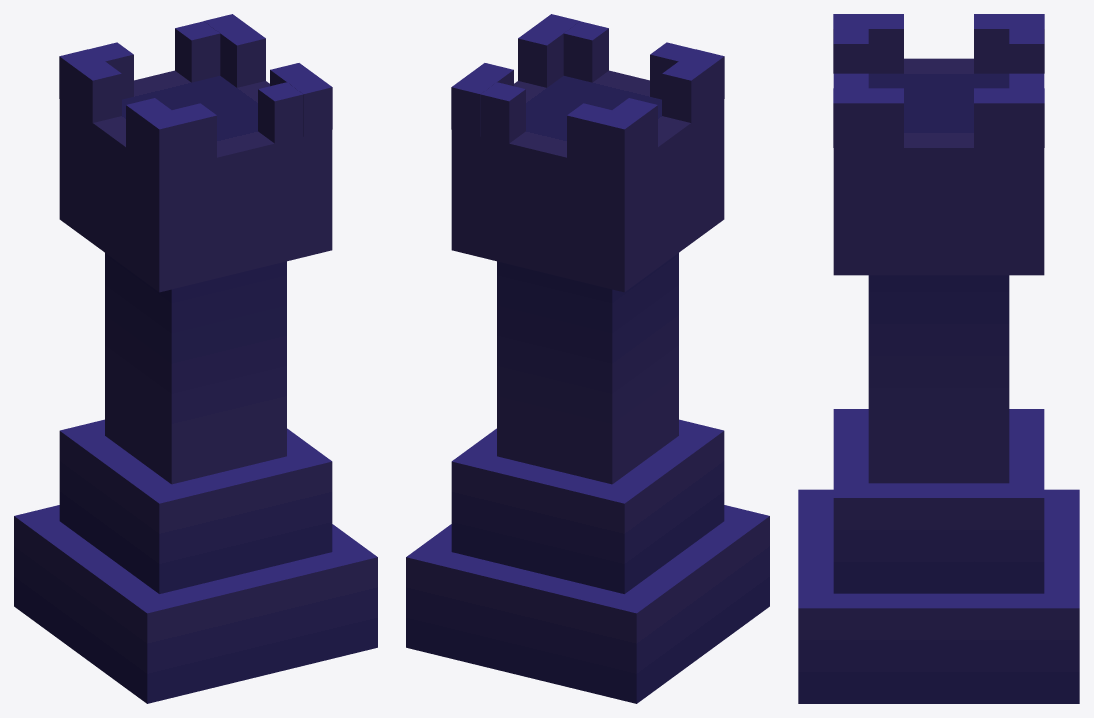
The model's file is Rook Black.gltf.
3 renders of one model, left to right at view 1: azimuth 30°, elevation 25°; view 2: azimuth 150°, elevation 25°; view 3: azimuth 270°, elevation 25°, orthographic. The views are drawn at different scales.
Parts seen in each view (by area): view 1: cube (×12); view 2: cube (×12); view 3: cube (×12).
Boxes of the visible parts, x1,y1,x2,y2 form: cube (×12): [14, 14, 377, 703]; cube (×12): [406, 14, 769, 703]; cube (×12): [798, 14, 1079, 703].
Size of the model in its own units: 0.125 by 0.2876 by 0.125.
1 material, 1 textured.
